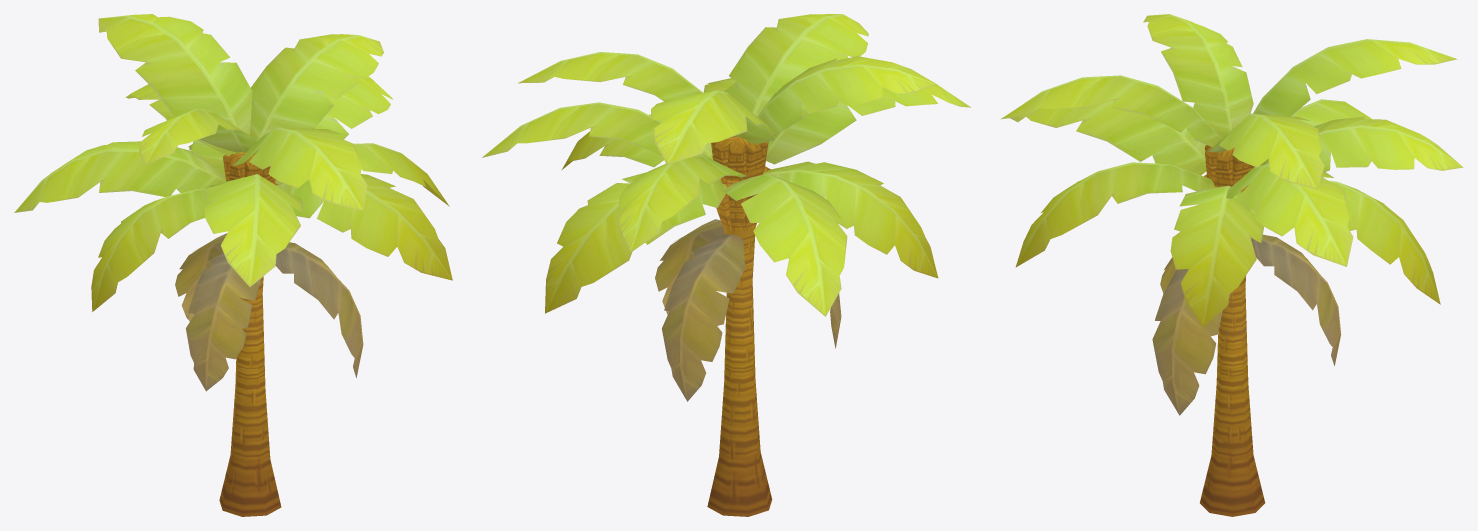
Rendered from tree1.gltf.
3 views of the same model, side by side, from view 1: azimuth 30°, elevation 25°; view 2: azimuth 150°, elevation 25°; view 3: azimuth 270°, elevation 25° (orthographic). The views are drawn at different scales.
Visible parts, largest first — view 1: coconut_tree; view 2: coconut_tree; view 3: coconut_tree.
Boxes of the visible parts, <box> form: coconut_tree: <box>14,14,452,516</box>; coconut_tree: <box>482,14,970,516</box>; coconut_tree: <box>1001,14,1463,516</box>.
Bounding box in the file's own units: 4.35 × 5.01 × 4.69.
